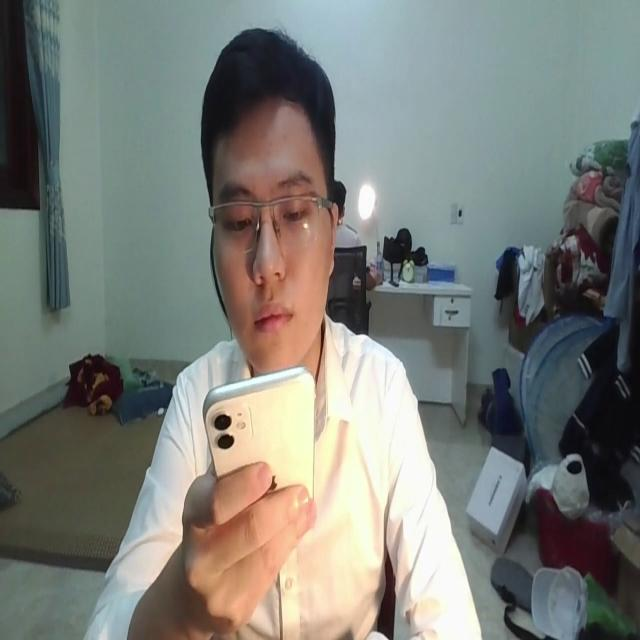phone: (200, 362, 320, 528)
student: (83, 50, 480, 640)
